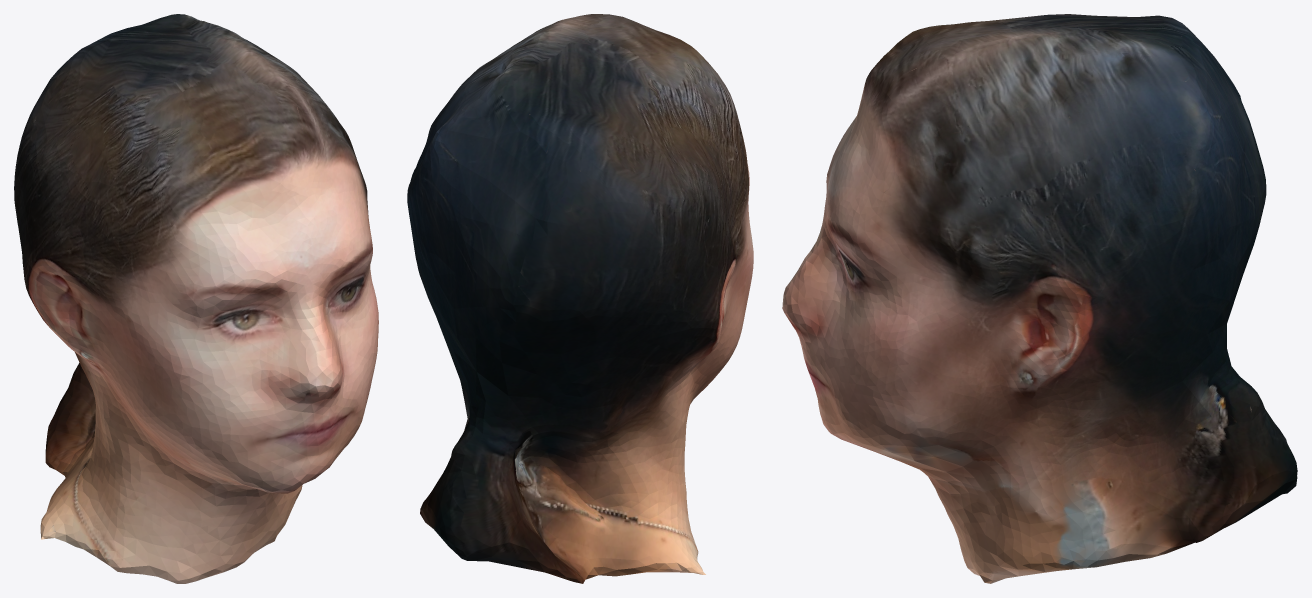
File: scarlet.FBX
3 renders of one model, left to right at view 1: azimuth 30°, elevation 25°; view 2: azimuth 150°, elevation 25°; view 3: azimuth 270°, elevation 25°, orthographic. The views are drawn at different scales.
Visible parts, largest first — view 1: Object_1; view 2: Object_1; view 3: Object_1.
Part boxes in pixels (<box>): Object_1: <box>14,14,378,583</box>; Object_1: <box>407,14,753,583</box>; Object_1: <box>782,14,1297,583</box>.
Size of the model in its own units: 87.66 by 145 by 121.
